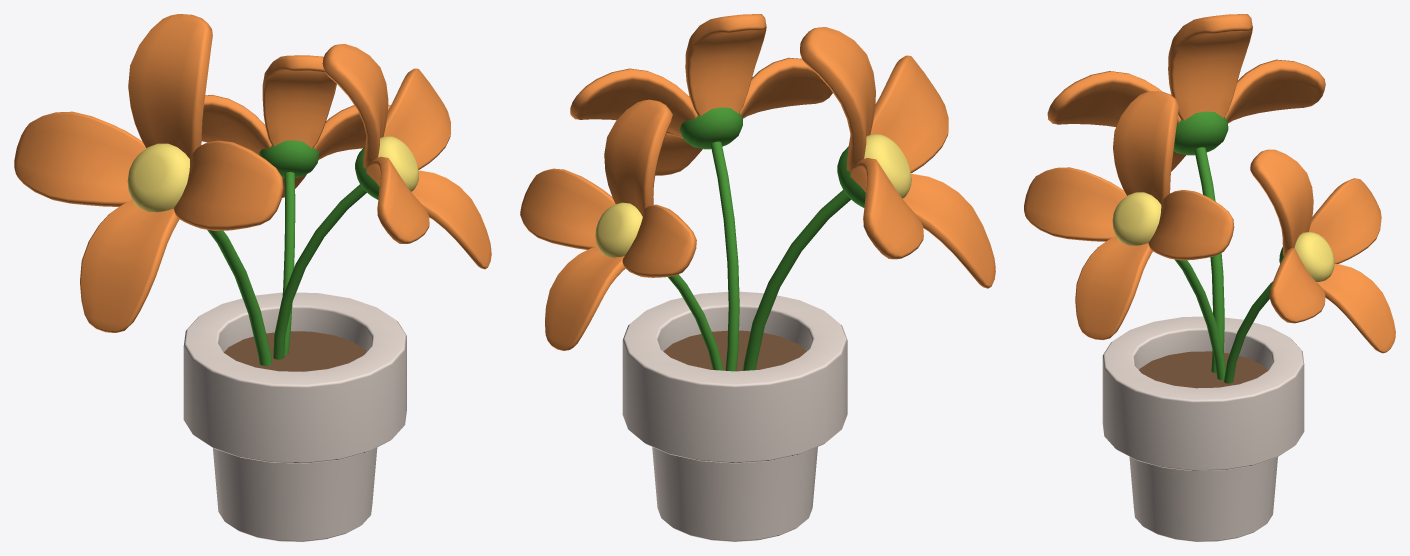
Rendered from Flower_10.glb.
3 renders of one model, left to right at view 1: azimuth 30°, elevation 25°; view 2: azimuth 150°, elevation 25°; view 3: azimuth 270°, elevation 25°, orthographic. The views are drawn at different scales.
Visible parts, largest first — view 1: Flower_9; view 2: Flower_9; view 3: Flower_9.
Part boxes in pixels (<box>): Flower_9: <box>14,14,491,541</box>; Flower_9: <box>520,14,995,541</box>; Flower_9: <box>1024,14,1395,541</box>.
Bounding box in the file's own units: 0.6273 × 0.7656 × 0.5624.
Materials: 1 (1 with a texture image).
